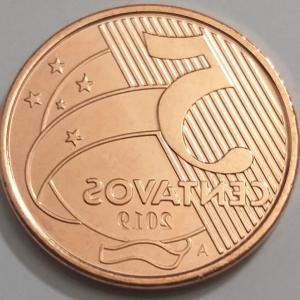5 cent: (0, 3, 299, 291)
